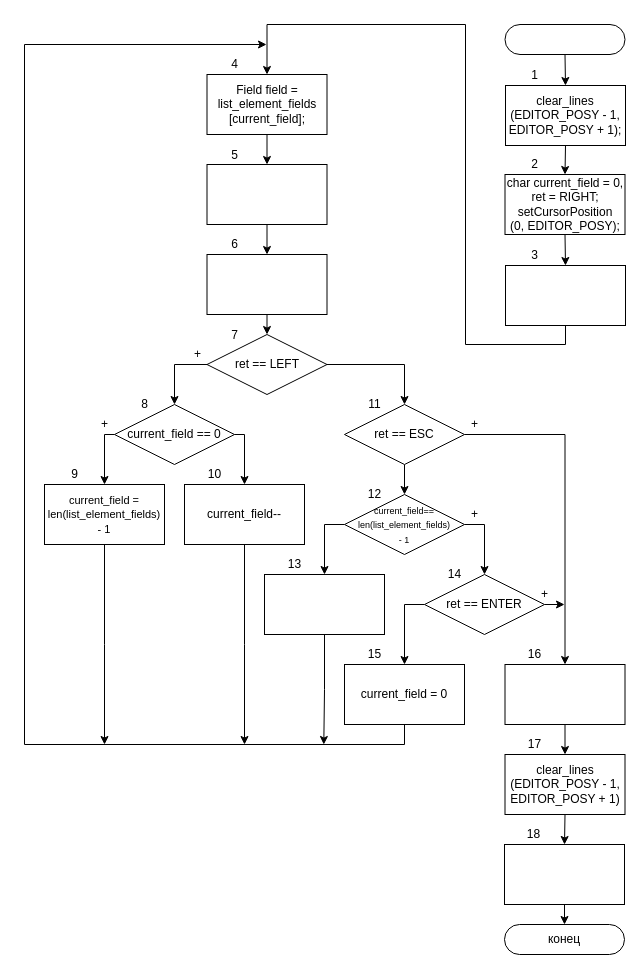
Some shapes in this 643 by 972 pixel diagram are drawn without their labels. The centre of each missing label's shape, as x and y in pixels:
"char * offset = (char *)elem + field.offset;" goes at point (266, 194).
"current_field++" goes at point (324, 604).
"element_print(elem); setCursorVisibility (TRUE)" goes at point (565, 295).
"ret = field.read_func(ret, field.posx, offset, field)" goes at point (266, 284).
"return ret" goes at point (564, 874).
"setCursorVisibility (FALSE)" goes at point (564, 694).
"начало draw_editor(elem)" goes at point (564, 39).
